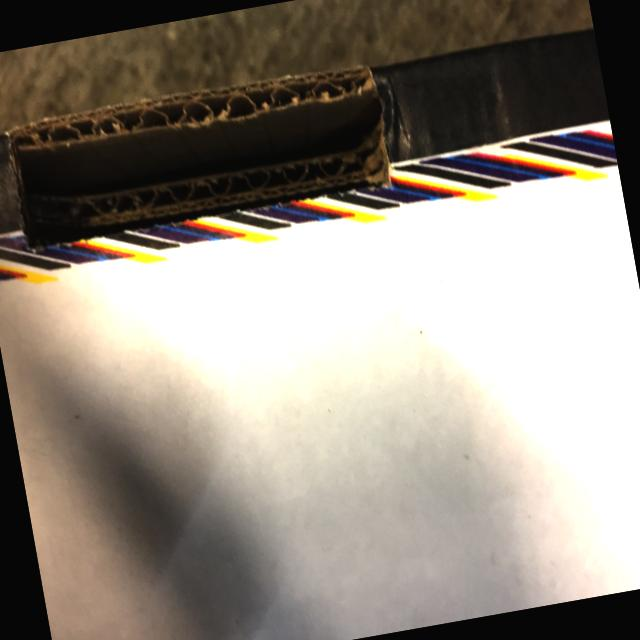Cardboard: (0, 36, 423, 282)
